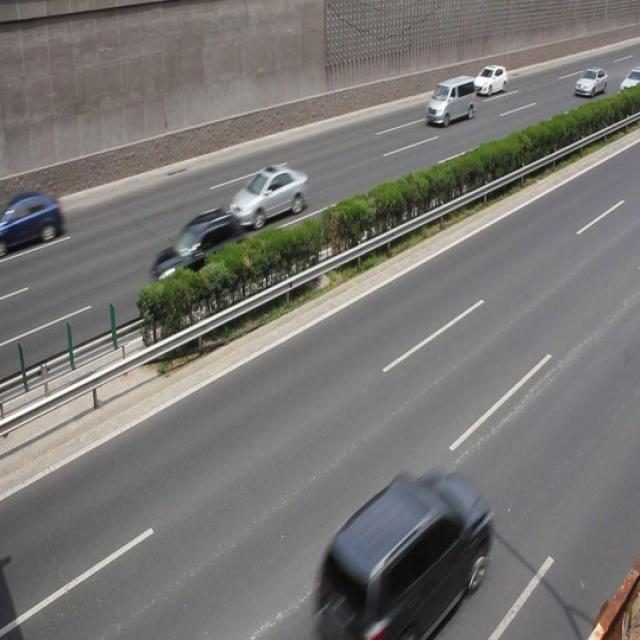car: (315, 467, 492, 632), (149, 210, 249, 302), (228, 161, 310, 227), (1, 193, 64, 251), (473, 63, 506, 97), (573, 66, 605, 99)
truck: (426, 75, 474, 128)
